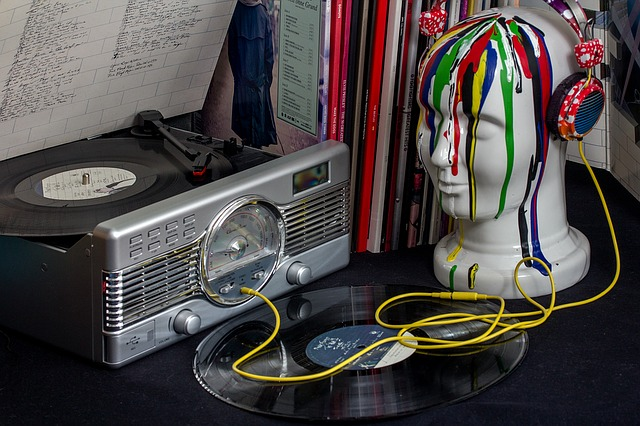headphones: (418, 1, 604, 143)
